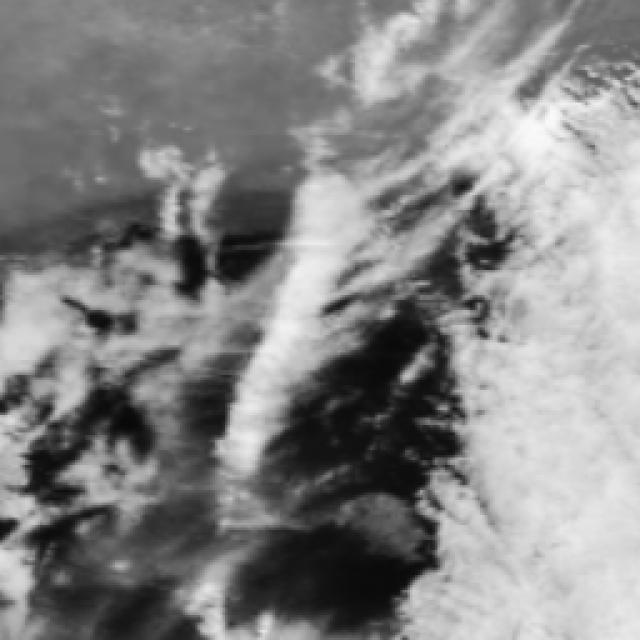CB: (487, 362, 640, 640), (522, 180, 640, 362)
